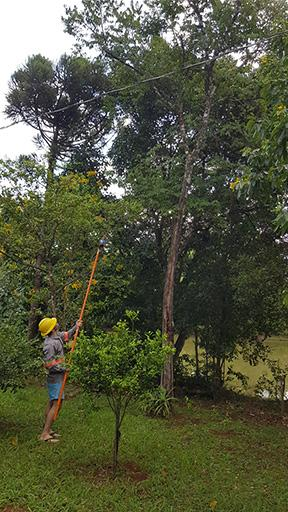Capacete: (37, 316, 60, 338)
Detector_Tensao_Contato: (95, 232, 108, 252)
Vara_Manobra: (52, 250, 99, 421)
